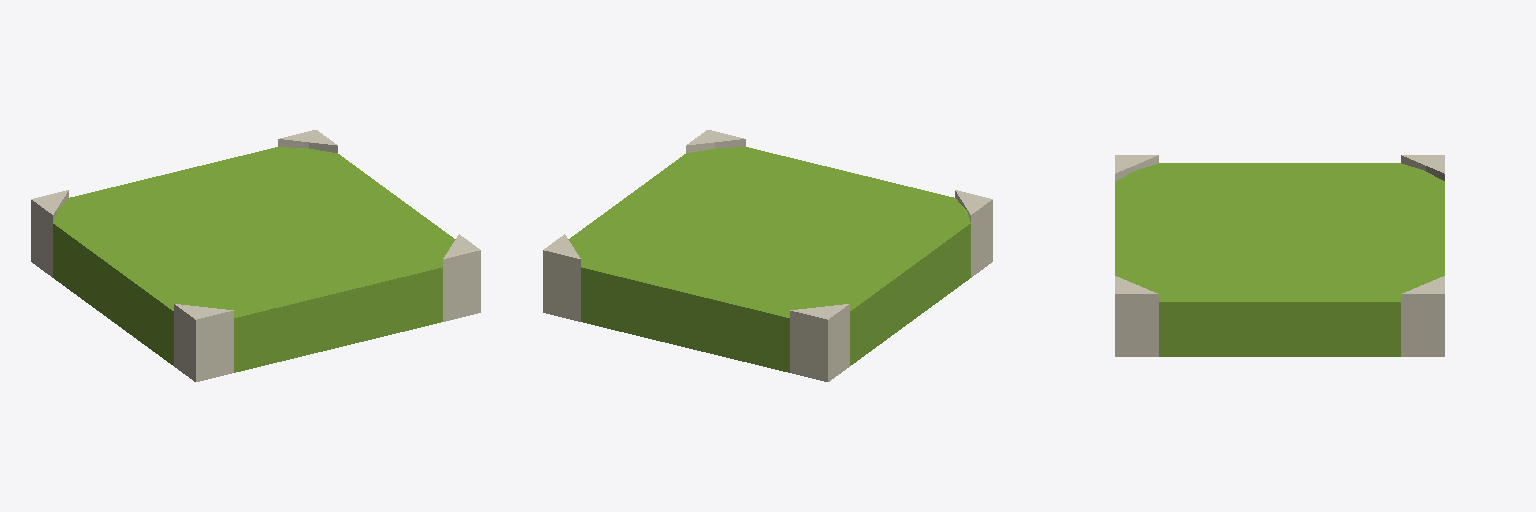
3 renders of one model, left to right at view 1: azimuth 30°, elevation 25°; view 2: azimuth 150°, elevation 25°; view 3: azimuth 270°, elevation 25°, orthographic.
Parts seen in each view (by area): view 1: roadTile_039.001; view 2: roadTile_039.001; view 3: roadTile_039.001.
Boxes of the visible parts, x1=… form: roadTile_039.001: x1=31, y1=130, x2=480, y2=381; roadTile_039.001: x1=543, y1=130, x2=992, y2=381; roadTile_039.001: x1=1115, y1=155, x2=1444, y2=356.
Bounding box in the file's own units: 3 × 0.63 × 3.